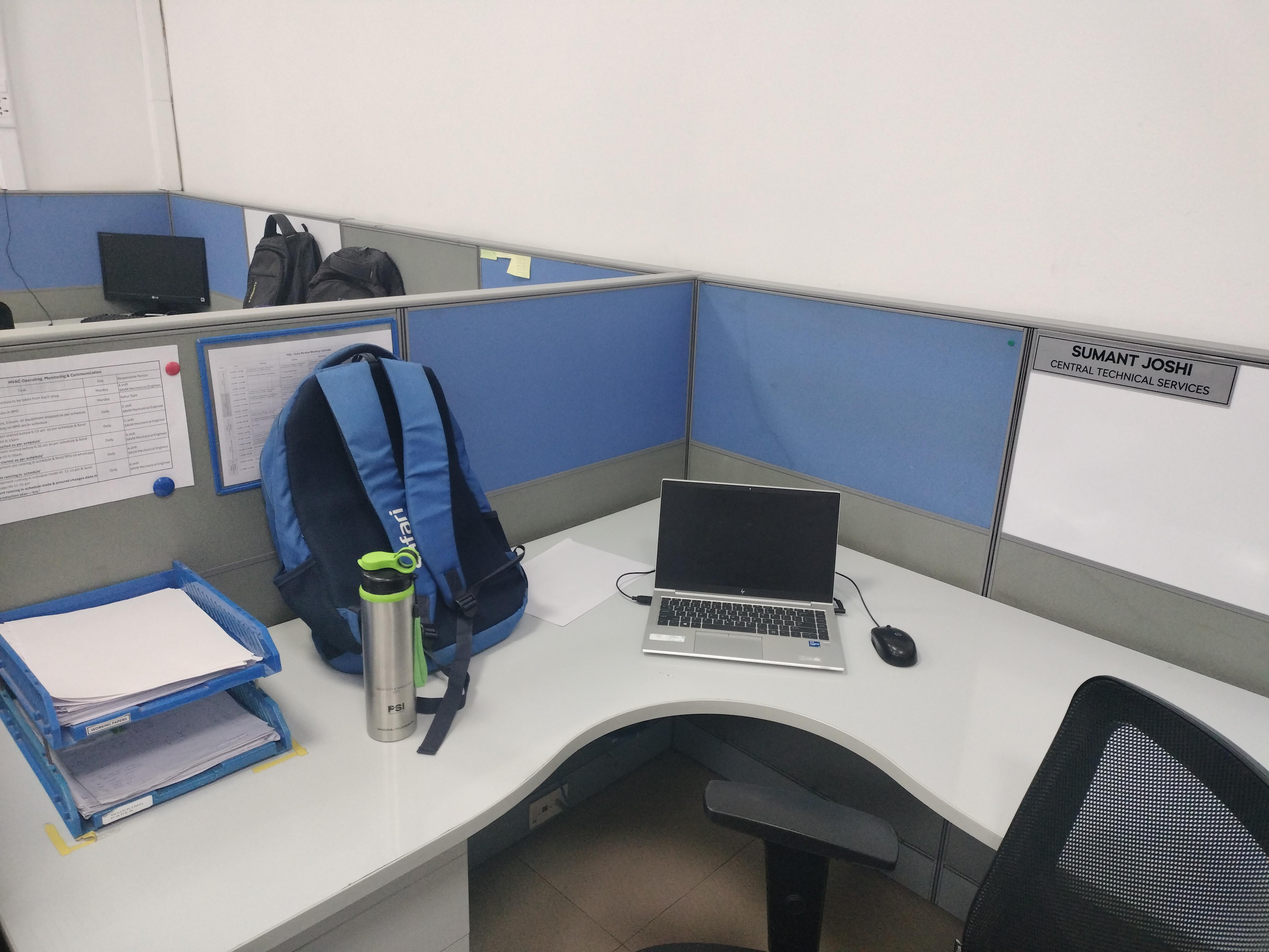bag: (257, 342, 528, 757)
bottle: (355, 547, 429, 743)
calender: (195, 319, 402, 491)
filetray: (0, 557, 295, 841)
laptop: (638, 477, 847, 673)
mouse: (870, 624, 919, 667)
nameplate: (1027, 326, 1245, 411)
page: (0, 584, 265, 732), (0, 342, 196, 527), (54, 693, 279, 821), (520, 536, 657, 629)
